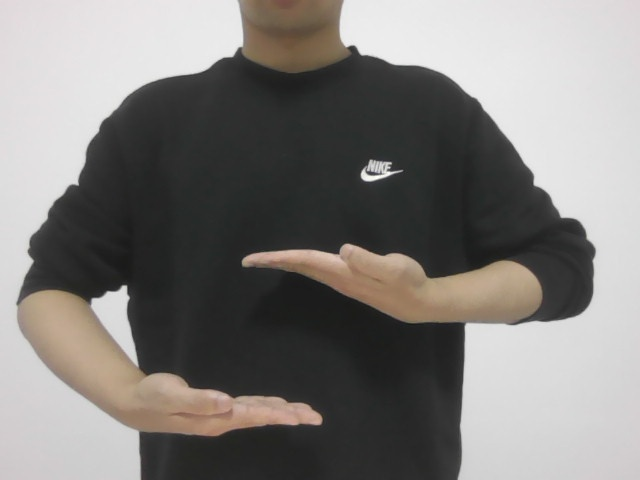happy: (130, 241, 437, 442)
